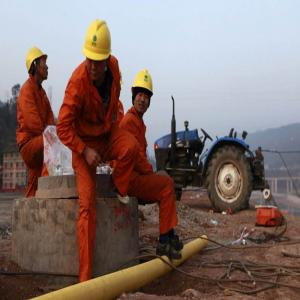yellow: (83, 16, 114, 83), (131, 69, 155, 115), (25, 46, 50, 88)
